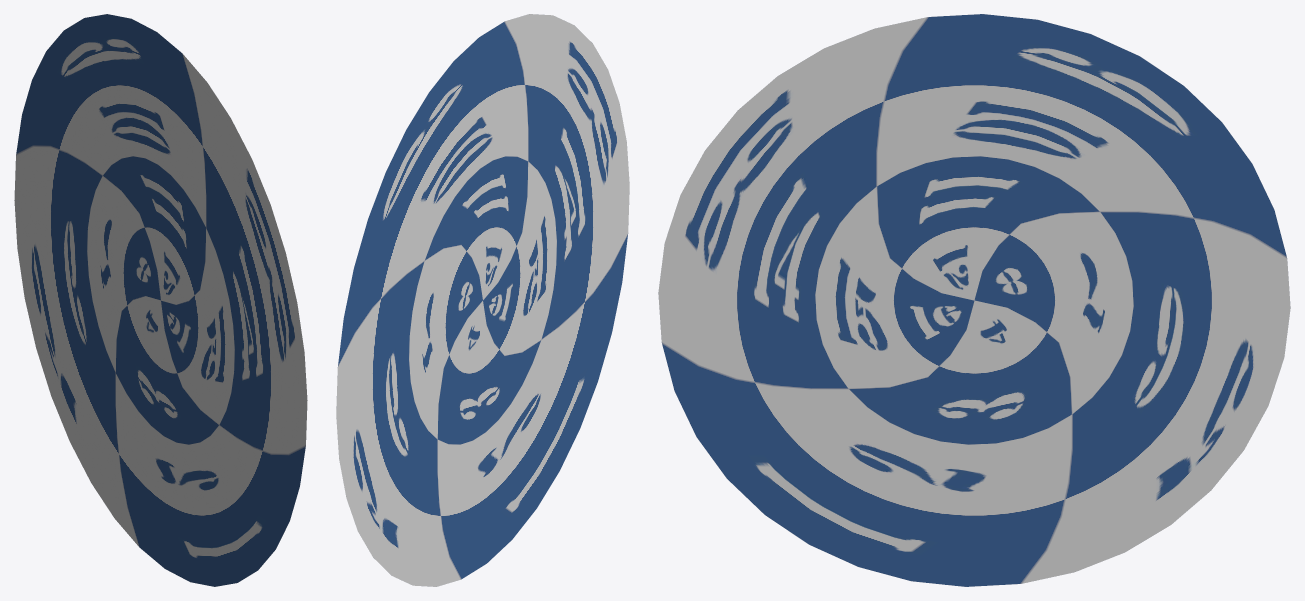
File: Enmu_Ring6.fbx
3 views of the same model, side by side, from view 1: azimuth 30°, elevation 25°; view 2: azimuth 150°, elevation 25°; view 3: azimuth 270°, elevation 25° (orthographic). The views are drawn at different scales.
Visible parts, largest first — view 1: SM_e_DLC_Plc_P1011_Ring001; view 2: SM_e_DLC_Plc_P1011_Ring001; view 3: SM_e_DLC_Plc_P1011_Ring001.
Boxes of the visible parts, <box> form: SM_e_DLC_Plc_P1011_Ring001: <box>14,14,307,586</box>; SM_e_DLC_Plc_P1011_Ring001: <box>336,14,629,586</box>; SM_e_DLC_Plc_P1011_Ring001: <box>658,14,1290,586</box>.
Size of the model in its own units: 6.99e-06 by 101 by 101.
